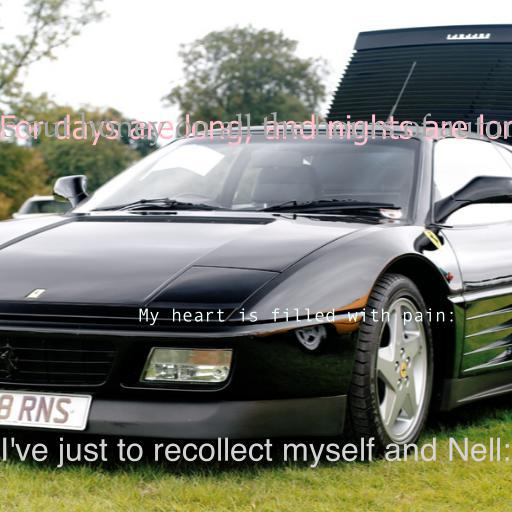Andale Mono: (137, 308, 457, 326)
Palatino: (0, 111, 512, 146)
SignPainter: (0, 437, 511, 468)
Tahoma: (0, 114, 512, 146)
